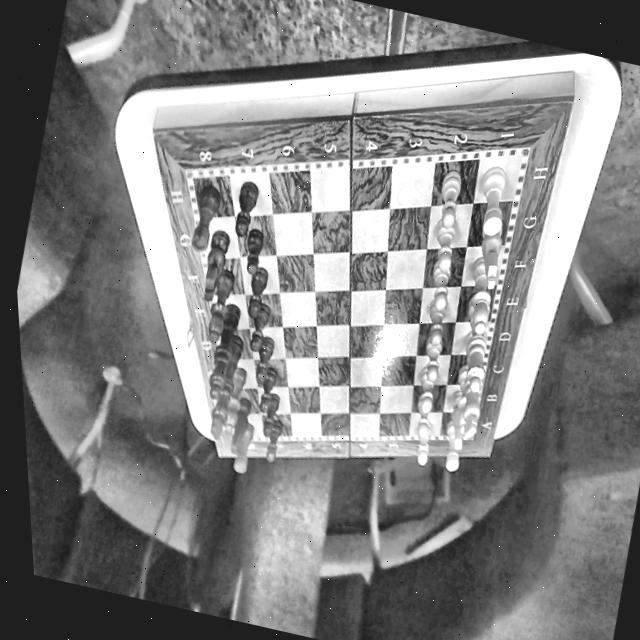chessboard: (192, 158, 521, 434)
